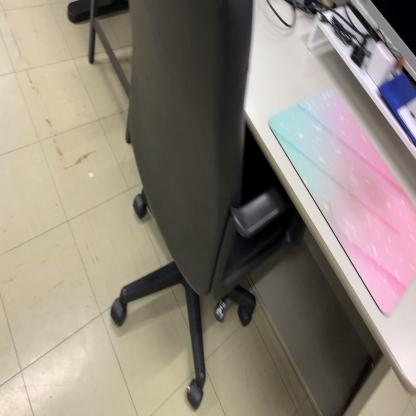chair: (108, 1, 294, 413)
